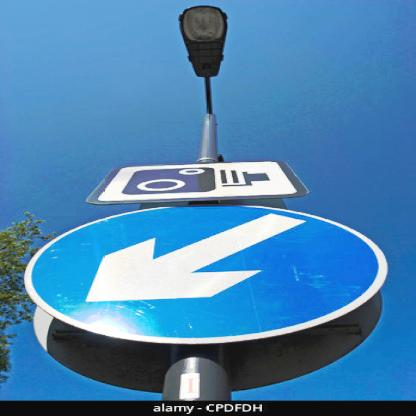Keep left: (26, 202, 400, 348)
